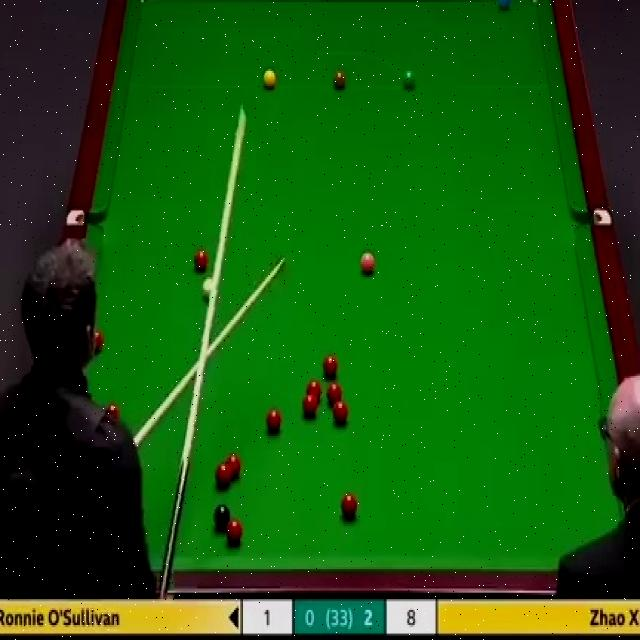black-ball: (214, 506, 231, 529)
blue-ball: (496, 0, 511, 11)
brown-ball: (332, 69, 347, 89)
green-ball: (401, 69, 415, 89)
pink-ball: (360, 253, 376, 277)
red-ball: (321, 352, 339, 378), (332, 397, 348, 424), (226, 453, 241, 481), (266, 406, 282, 432), (343, 493, 357, 521), (303, 395, 320, 418), (305, 378, 322, 401), (215, 464, 231, 488), (226, 526, 242, 548), (327, 382, 342, 404), (104, 400, 121, 418), (193, 251, 209, 270), (95, 329, 104, 357)
white-ball: (201, 276, 212, 299)
yellow-ball: (262, 69, 277, 89)
